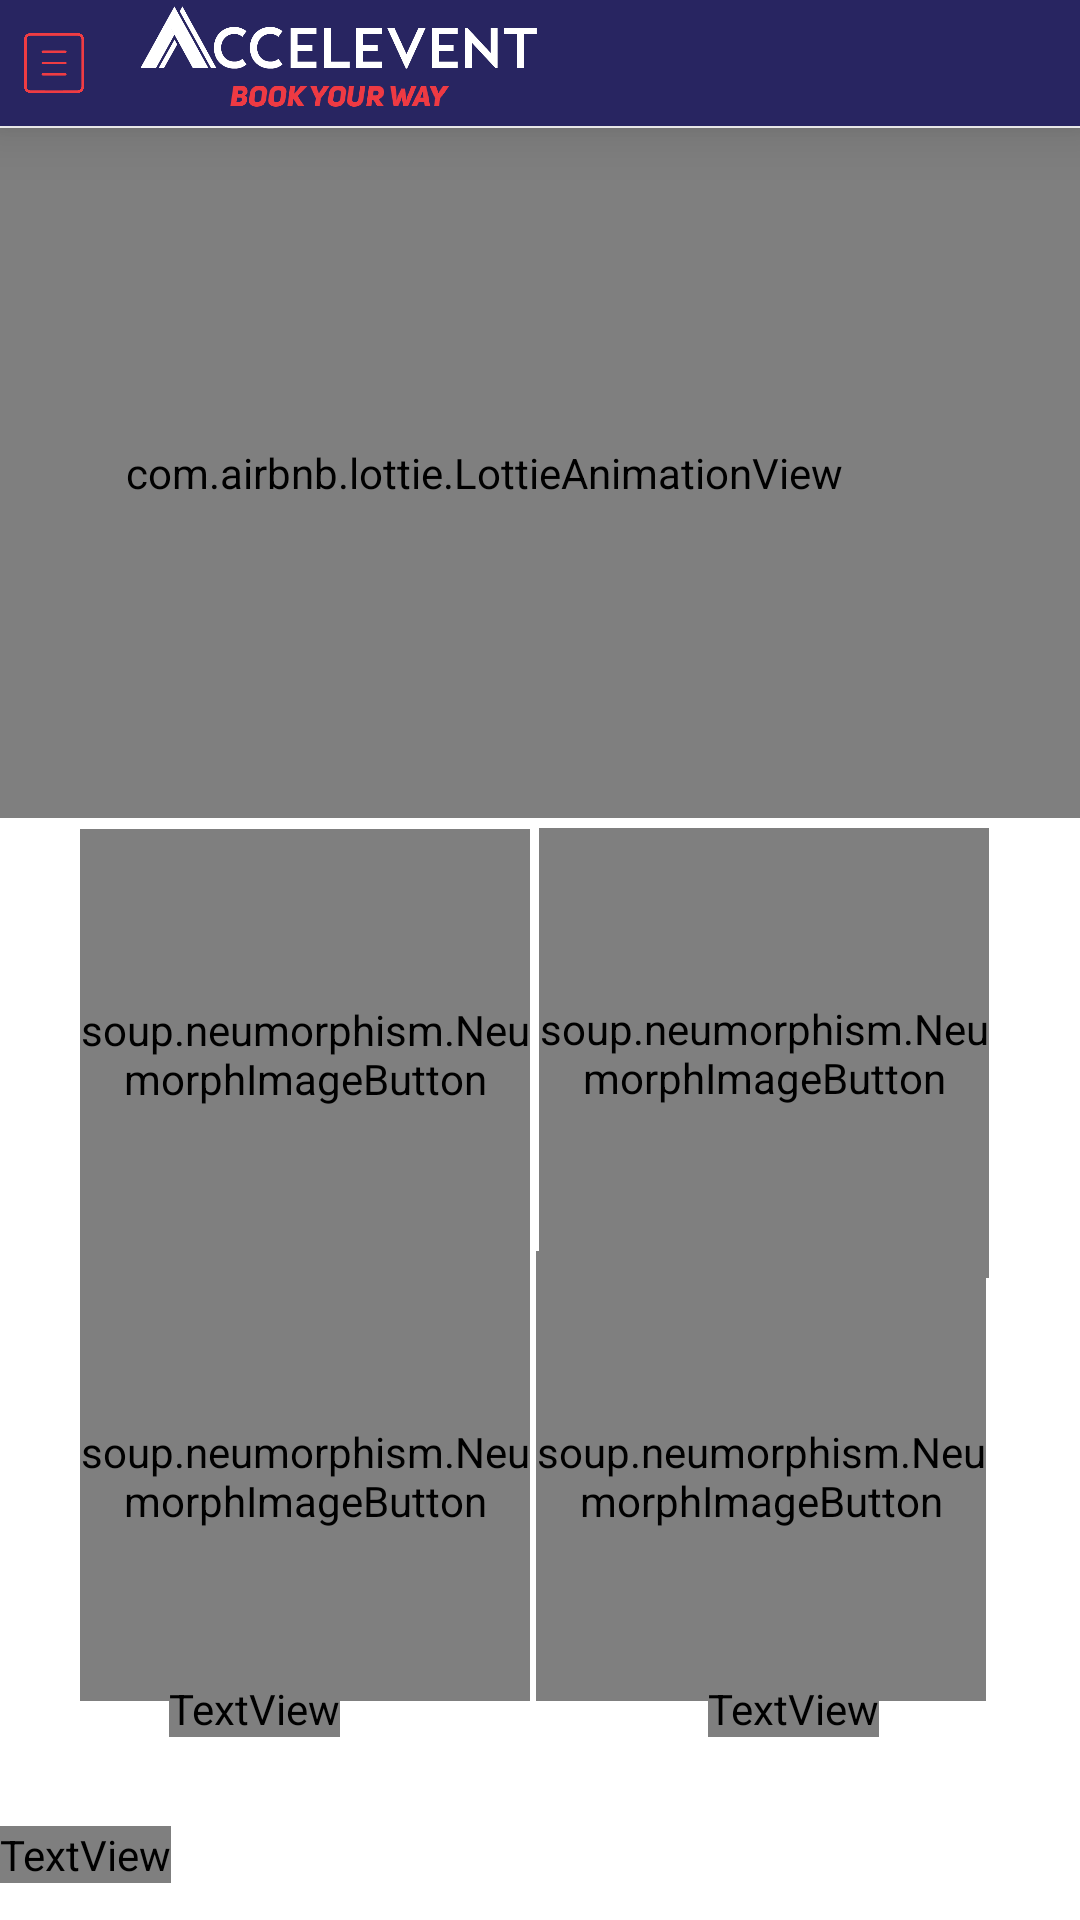

Screen size 1080w x 1920h. Icon name, then its box in pixels as (x1, y1, x2, y2):
handburger: (24, 33, 84, 93)
